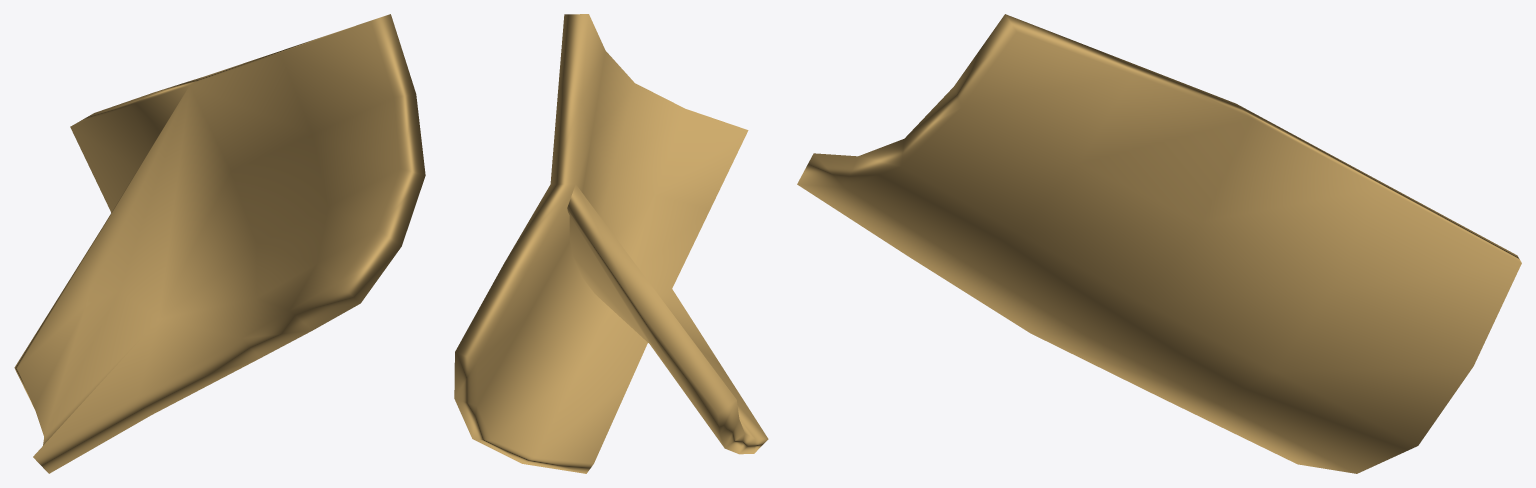
3 renders of one model, left to right at view 1: azimuth 30°, elevation 25°; view 2: azimuth 150°, elevation 25°; view 3: azimuth 270°, elevation 25°, orthographic. The views are drawn at different scales.
Visible parts, largest first — view 1: 左侧腕关节桡侧副韧带; view 2: 左侧腕关节桡侧副韧带; view 3: 左侧腕关节桡侧副韧带.
Boxes of the visible parts, x1,y1,x2,y2 form: 左侧腕关节桡侧副韧带: [14, 14, 425, 473]; 左侧腕关节桡侧副韧带: [454, 14, 768, 473]; 左侧腕关节桡侧副韧带: [797, 14, 1521, 473].
Size of the model in its own units: 0.00841 by 0.0116 by 0.0147.
